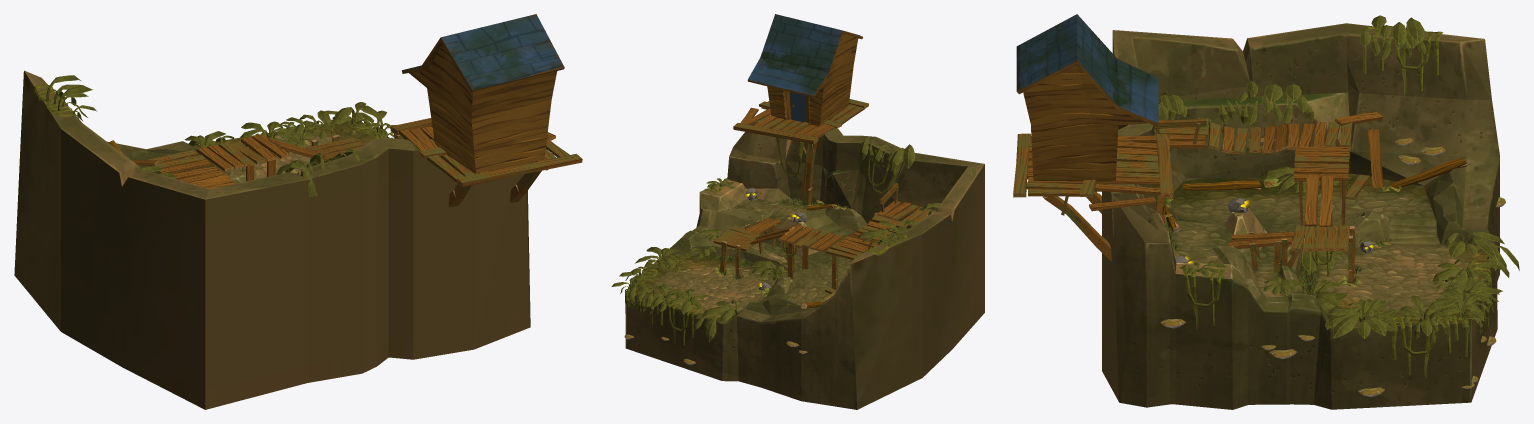
The model's file is low_poly_environment_jungle_scene-transformed.glb.
3 renders of one model, left to right at view 1: azimuth 30°, elevation 25°; view 2: azimuth 150°, elevation 25°; view 3: azimuth 270°, elevation 25°, orthographic. The views are drawn at different scales.
Parts seen in each view (by area): view 1: Plane001, Box081, Box078; view 2: Plane001, Box081, Box077, Box079, Plane552; view 3: Plane001, Box081, Plane553, Plane493, Box083, Box077, Box078, Plane559, Box111, Box054, Box033, Box112 (+3 smaller).
Boxes of the visible parts, x1=… form: Plane001: x1=14, y1=70, x2=530, y2=409; Box081: x1=402, y1=14, x2=564, y2=174; Box078: x1=456, y1=153, x2=582, y2=186; Plane001: x1=625, y1=115, x2=984, y2=409; Box081: x1=747, y1=14, x2=862, y2=126; Box077: x1=733, y1=123, x2=818, y2=144; Box079: x1=801, y1=141, x2=817, y2=205; Plane552: x1=651, y1=298, x2=700, y2=345; Plane001: x1=1102, y1=23, x2=1499, y2=409; Box081: x1=1016, y1=14, x2=1158, y2=181; Plane553: x1=1391, y1=315, x2=1468, y2=377; Plane493: x1=1363, y1=25, x2=1442, y2=95; Box083: x1=1042, y1=196, x2=1111, y2=261; Box077: x1=1156, y1=134, x2=1173, y2=198; Box078: x1=1013, y1=133, x2=1030, y2=197; Plane559: x1=1183, y1=268, x2=1225, y2=329; Box111: x1=1391, y1=157, x2=1467, y2=188; Box054: x1=1367, y1=129, x2=1383, y2=187; Box033: x1=1304, y1=174, x2=1319, y2=226; Box112: x1=1182, y1=180, x2=1261, y2=190.
Size of the model in its own units: 17.95 by 14.55 by 19.99.
15 materials, 15 textured.
